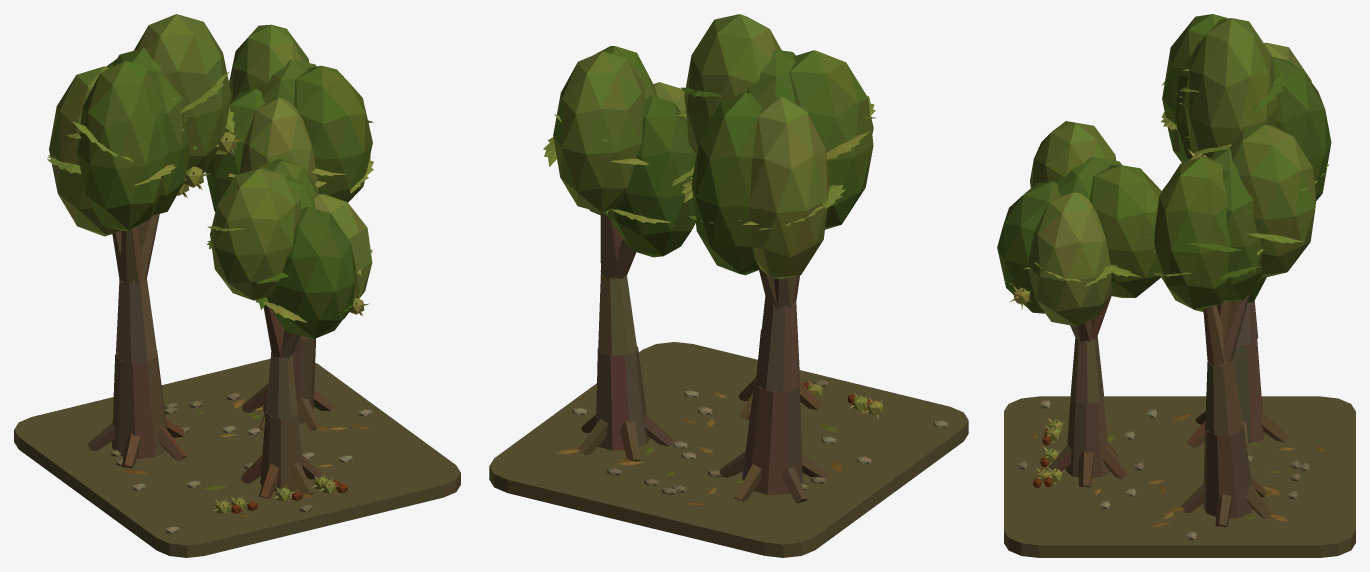
File: chataignier_grand.glb
3 renders of one model, left to right at view 1: azimuth 30°, elevation 25°; view 2: azimuth 150°, elevation 25°; view 3: azimuth 270°, elevation 25°, orthographic. The views are drawn at different scales.
Visible parts, largest first — view 1: Feuilles_et_chataignes, Sous_bois, Troncs_et_ramures; view 2: Feuilles_et_chataignes, Sous_bois, Troncs_et_ramures; view 3: Feuilles_et_chataignes, Sous_bois, Troncs_et_ramures.
Part boxes in pixels (x1=…): Feuilles_et_chataignes: x1=47, y1=14, x2=373, y2=517; Sous_bois: x1=14, y1=358, x2=460, y2=557; Troncs_et_ramures: x1=87, y1=214, x2=347, y2=513; Feuilles_et_chataignes: x1=543, y1=14, x2=886, y2=505; Sous_bois: x1=489, y1=342, x2=968, y2=557; Troncs_et_ramures: x1=578, y1=213, x2=870, y2=503; Feuilles_et_chataignes: x1=997, y1=14, x2=1331, y2=526; Sous_bois: x1=1004, y1=396, x2=1355, y2=557; Troncs_et_ramures: x1=1033, y1=291, x2=1289, y2=526.
Size of the model in its own units: 0.5 by 0.702 by 0.5096.
